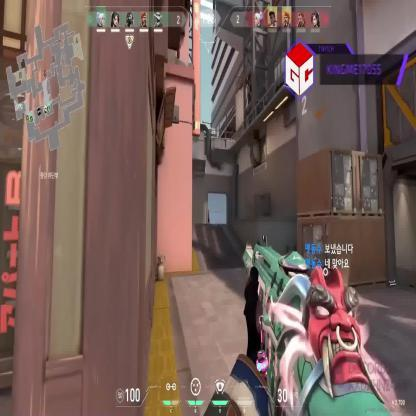enemy: (205, 206, 211, 224)
enemy_head: (207, 206, 210, 210)
